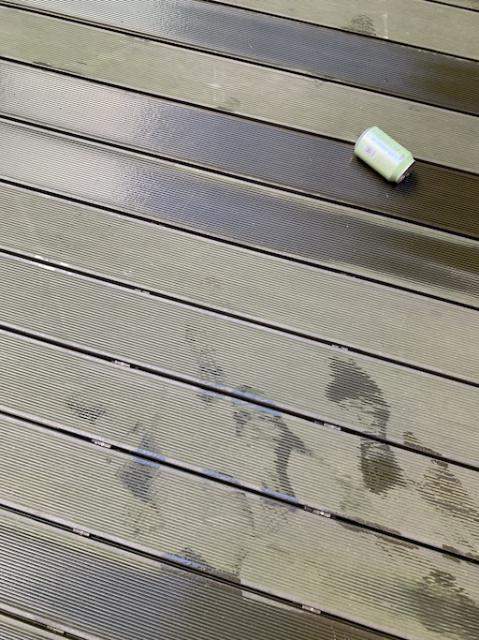metal: (350, 123, 417, 185)
